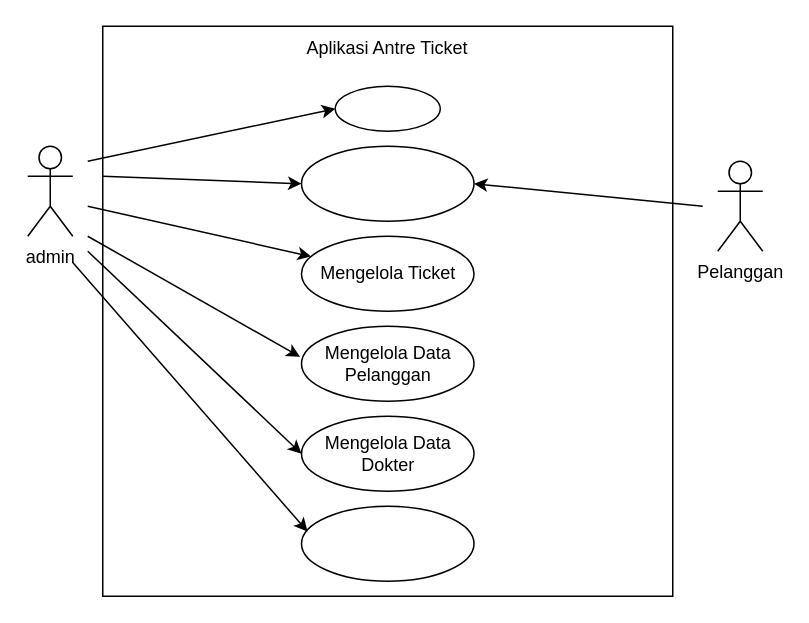
Some shapes in this 809 by 623 pixel diagram are drawn without their labels. The shapes that lost their labels are listed below. From the top down, each one's centre as x and y in pixels, then its label:
At point 387,108: "Login".
At point 387,183: "Mendaftar Ticket Antre".
At point 387,543: "Logout".
